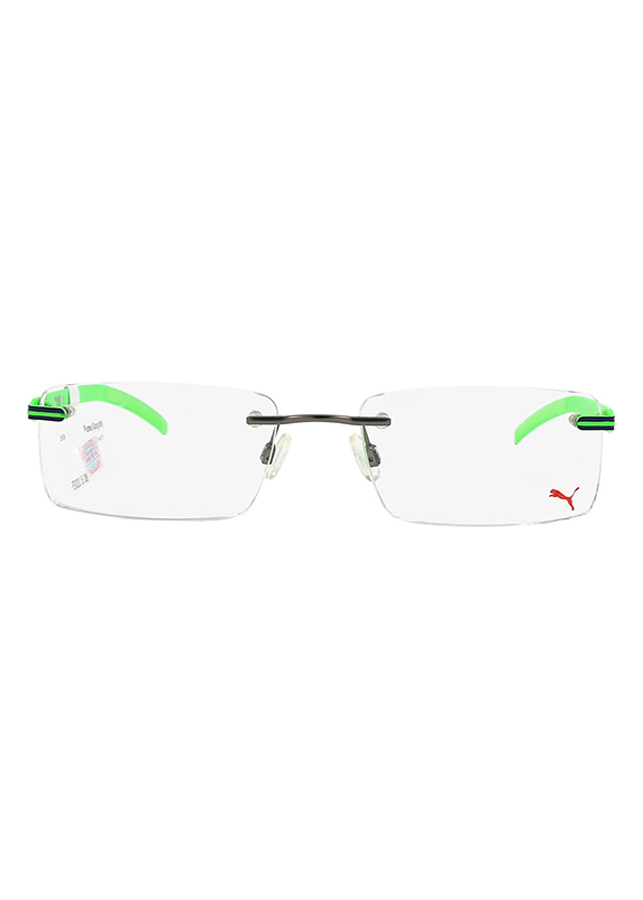Puma: (543, 479, 585, 515)
